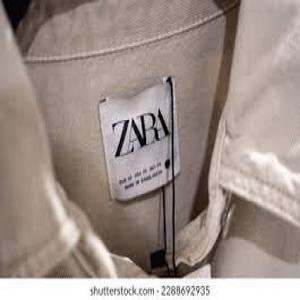zara: (118, 54, 223, 162)
